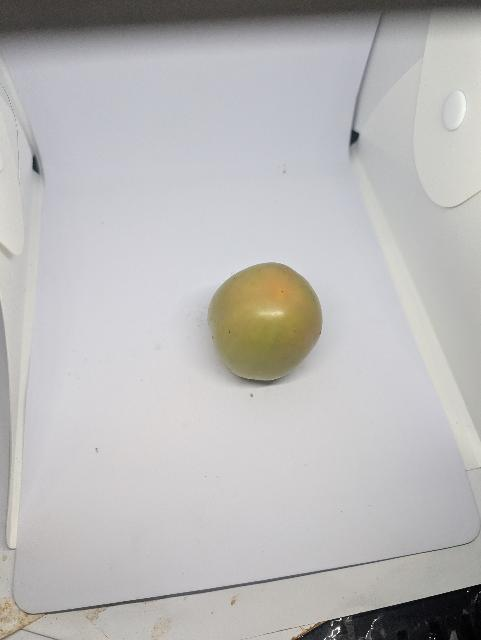breaker: (203, 258, 334, 387)
